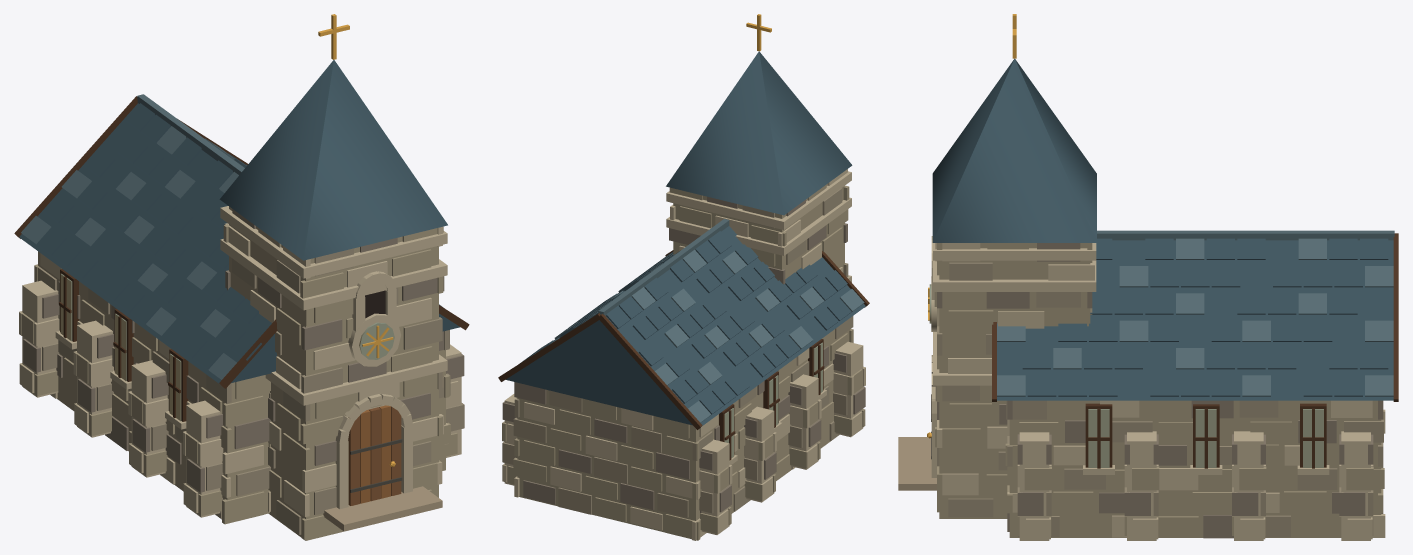
The model's file is capela.glb.
The picture shows the model from 3 angles, left to right: view 1: azimuth 30°, elevation 25°; view 2: azimuth 150°, elevation 25°; view 3: azimuth 270°, elevation 25°; orthographic projection. The views are drawn at different scales.
Visible parts, largest first — view 1: chapel; view 2: chapel; view 3: chapel.
Boxes of the visible parts, <box> form: chapel: <box>14,14,469,540</box>; chapel: <box>498,14,869,540</box>; chapel: <box>898,14,1398,540</box>.
Bounding box in the file's own units: 6.97 × 12.12 × 11.64.
